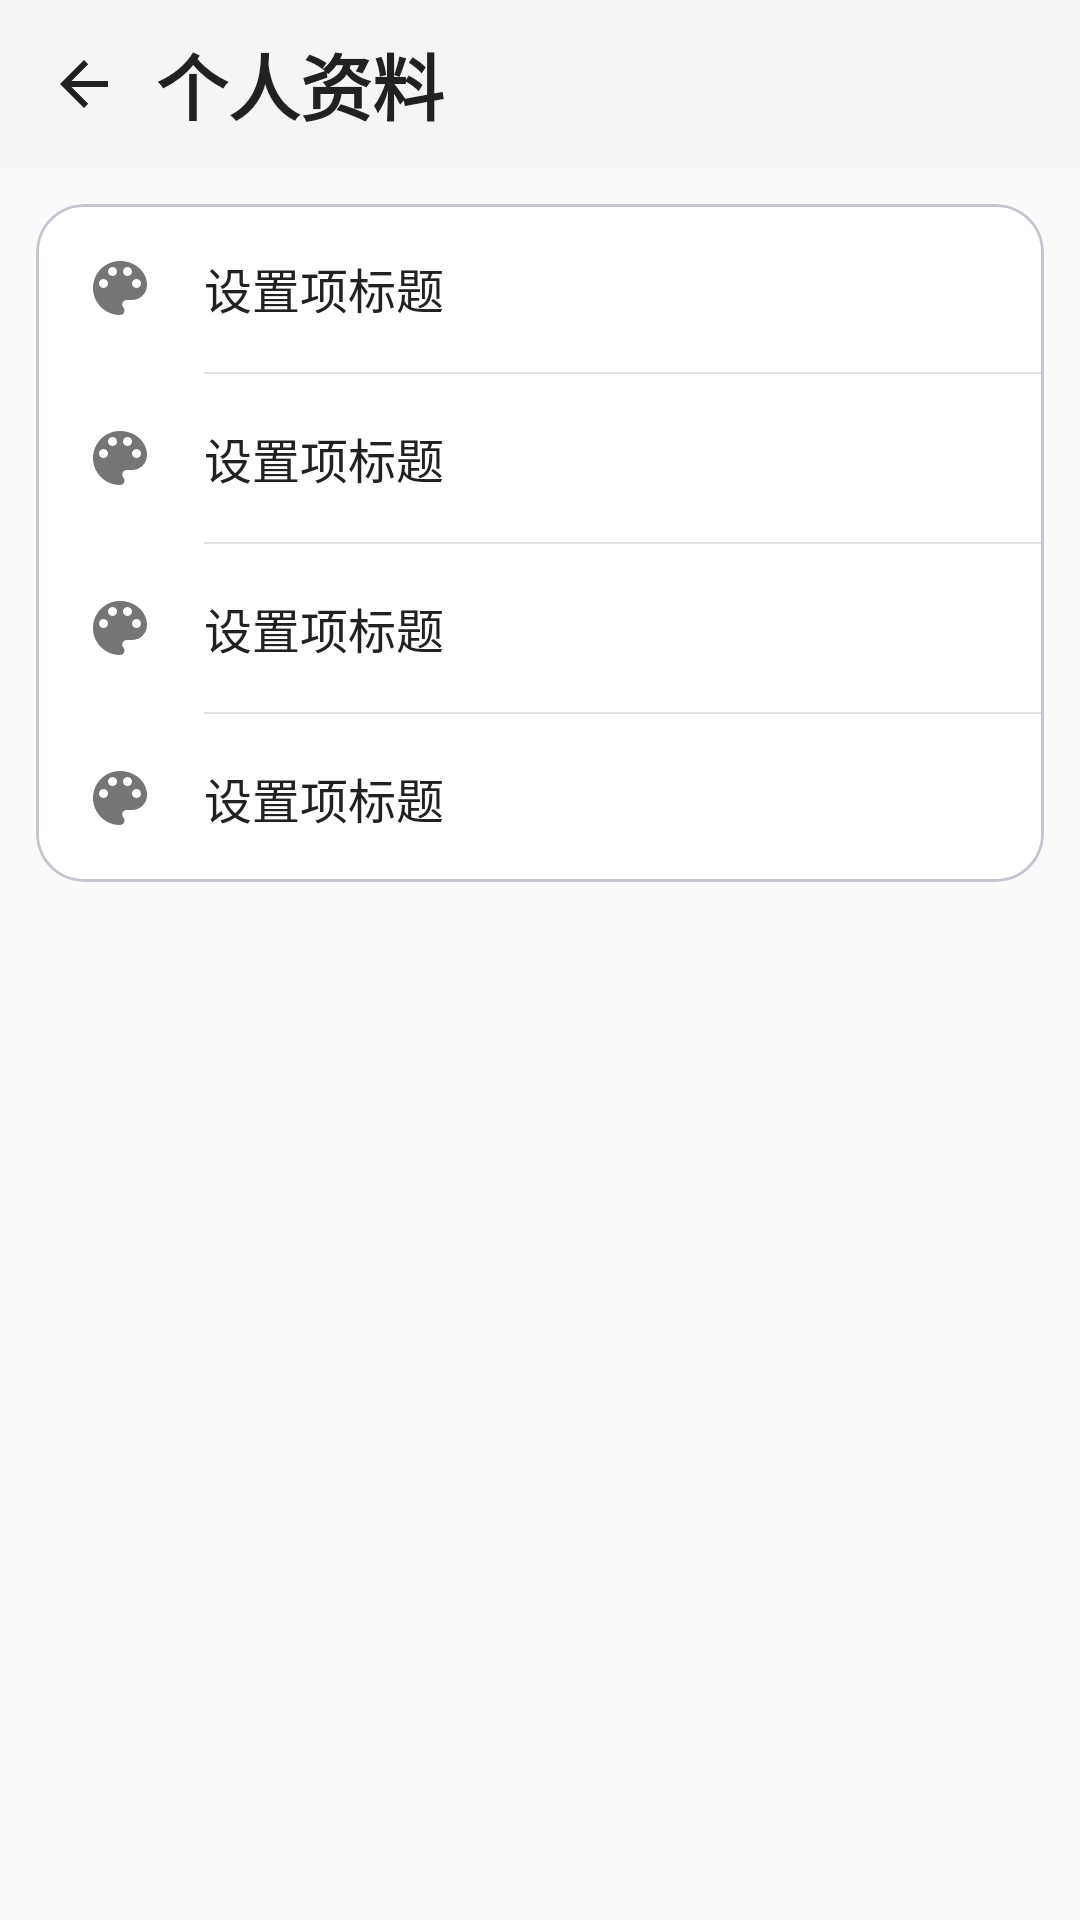

Screen size 1080x1920. Icon name, then its center in pixels as (x,y):
palette: (120,288), (120,458), (120,628), (120,798)
返回: (84,84)
